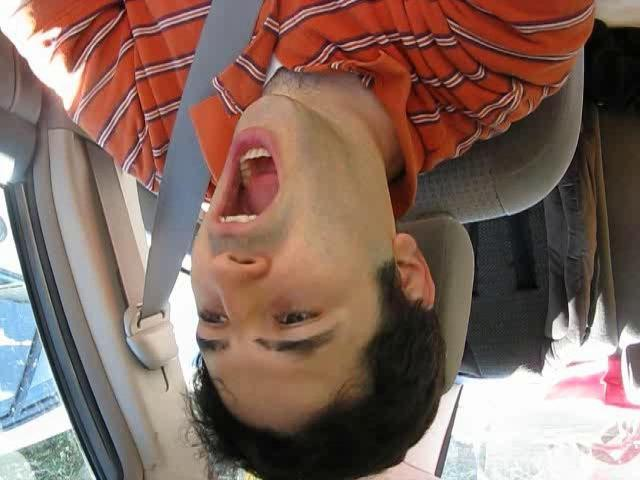eye_open: (268, 303, 327, 332), (193, 303, 233, 332)
face: (185, 92, 362, 376)
mouth_open: (210, 124, 285, 232)
